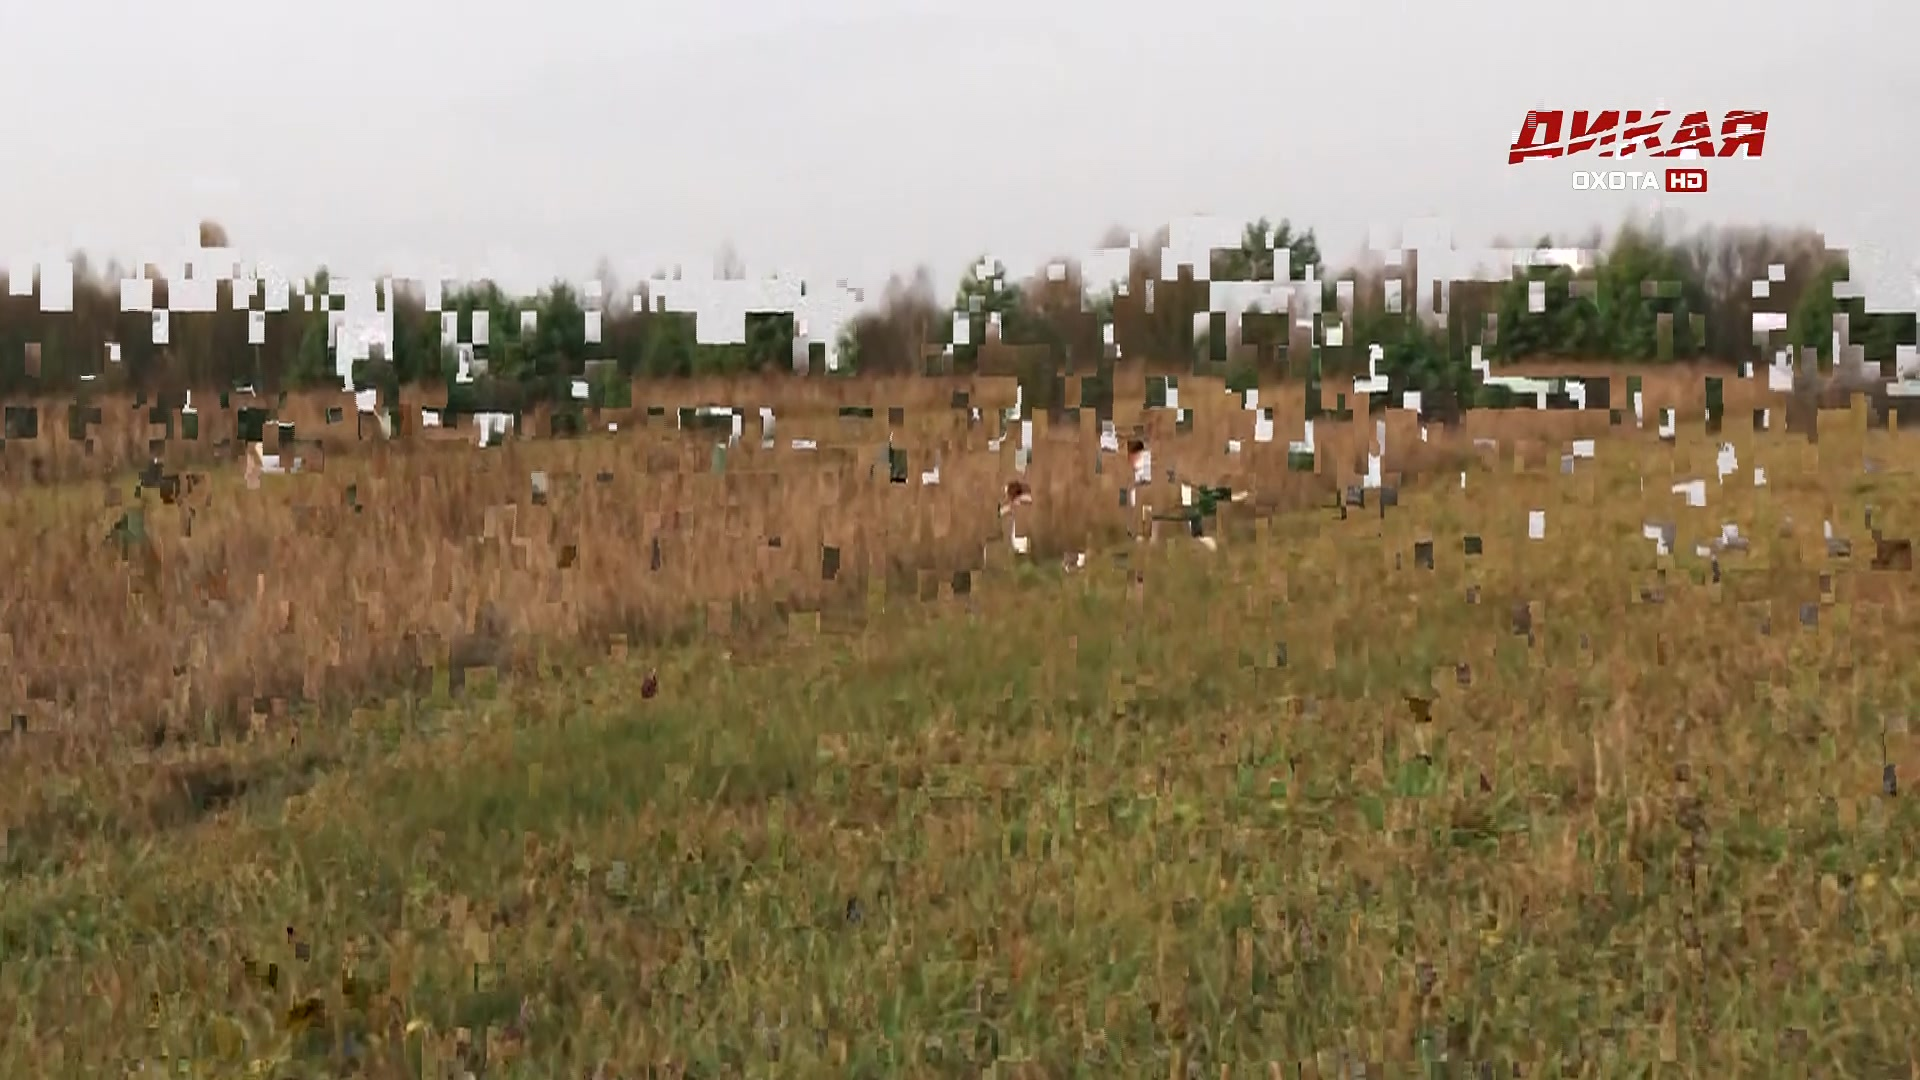Dikaya_Ohota_HD: (1506, 108, 1775, 195)
